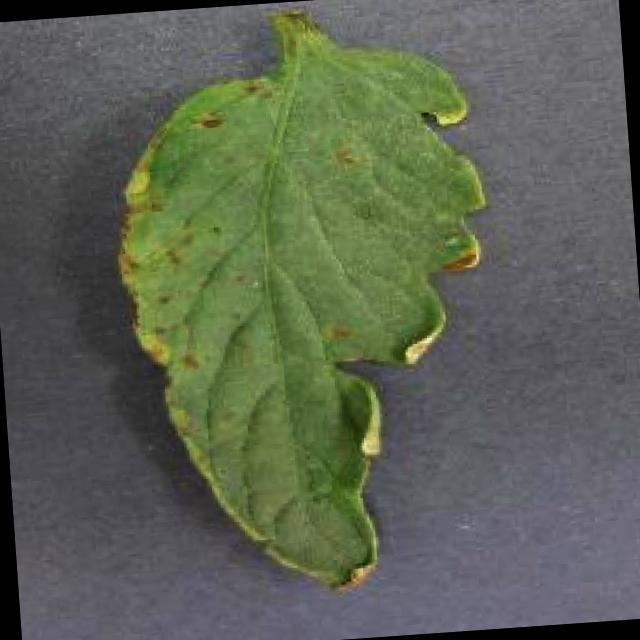Tomato bacterial spot leaf: (106, 37, 517, 608)
